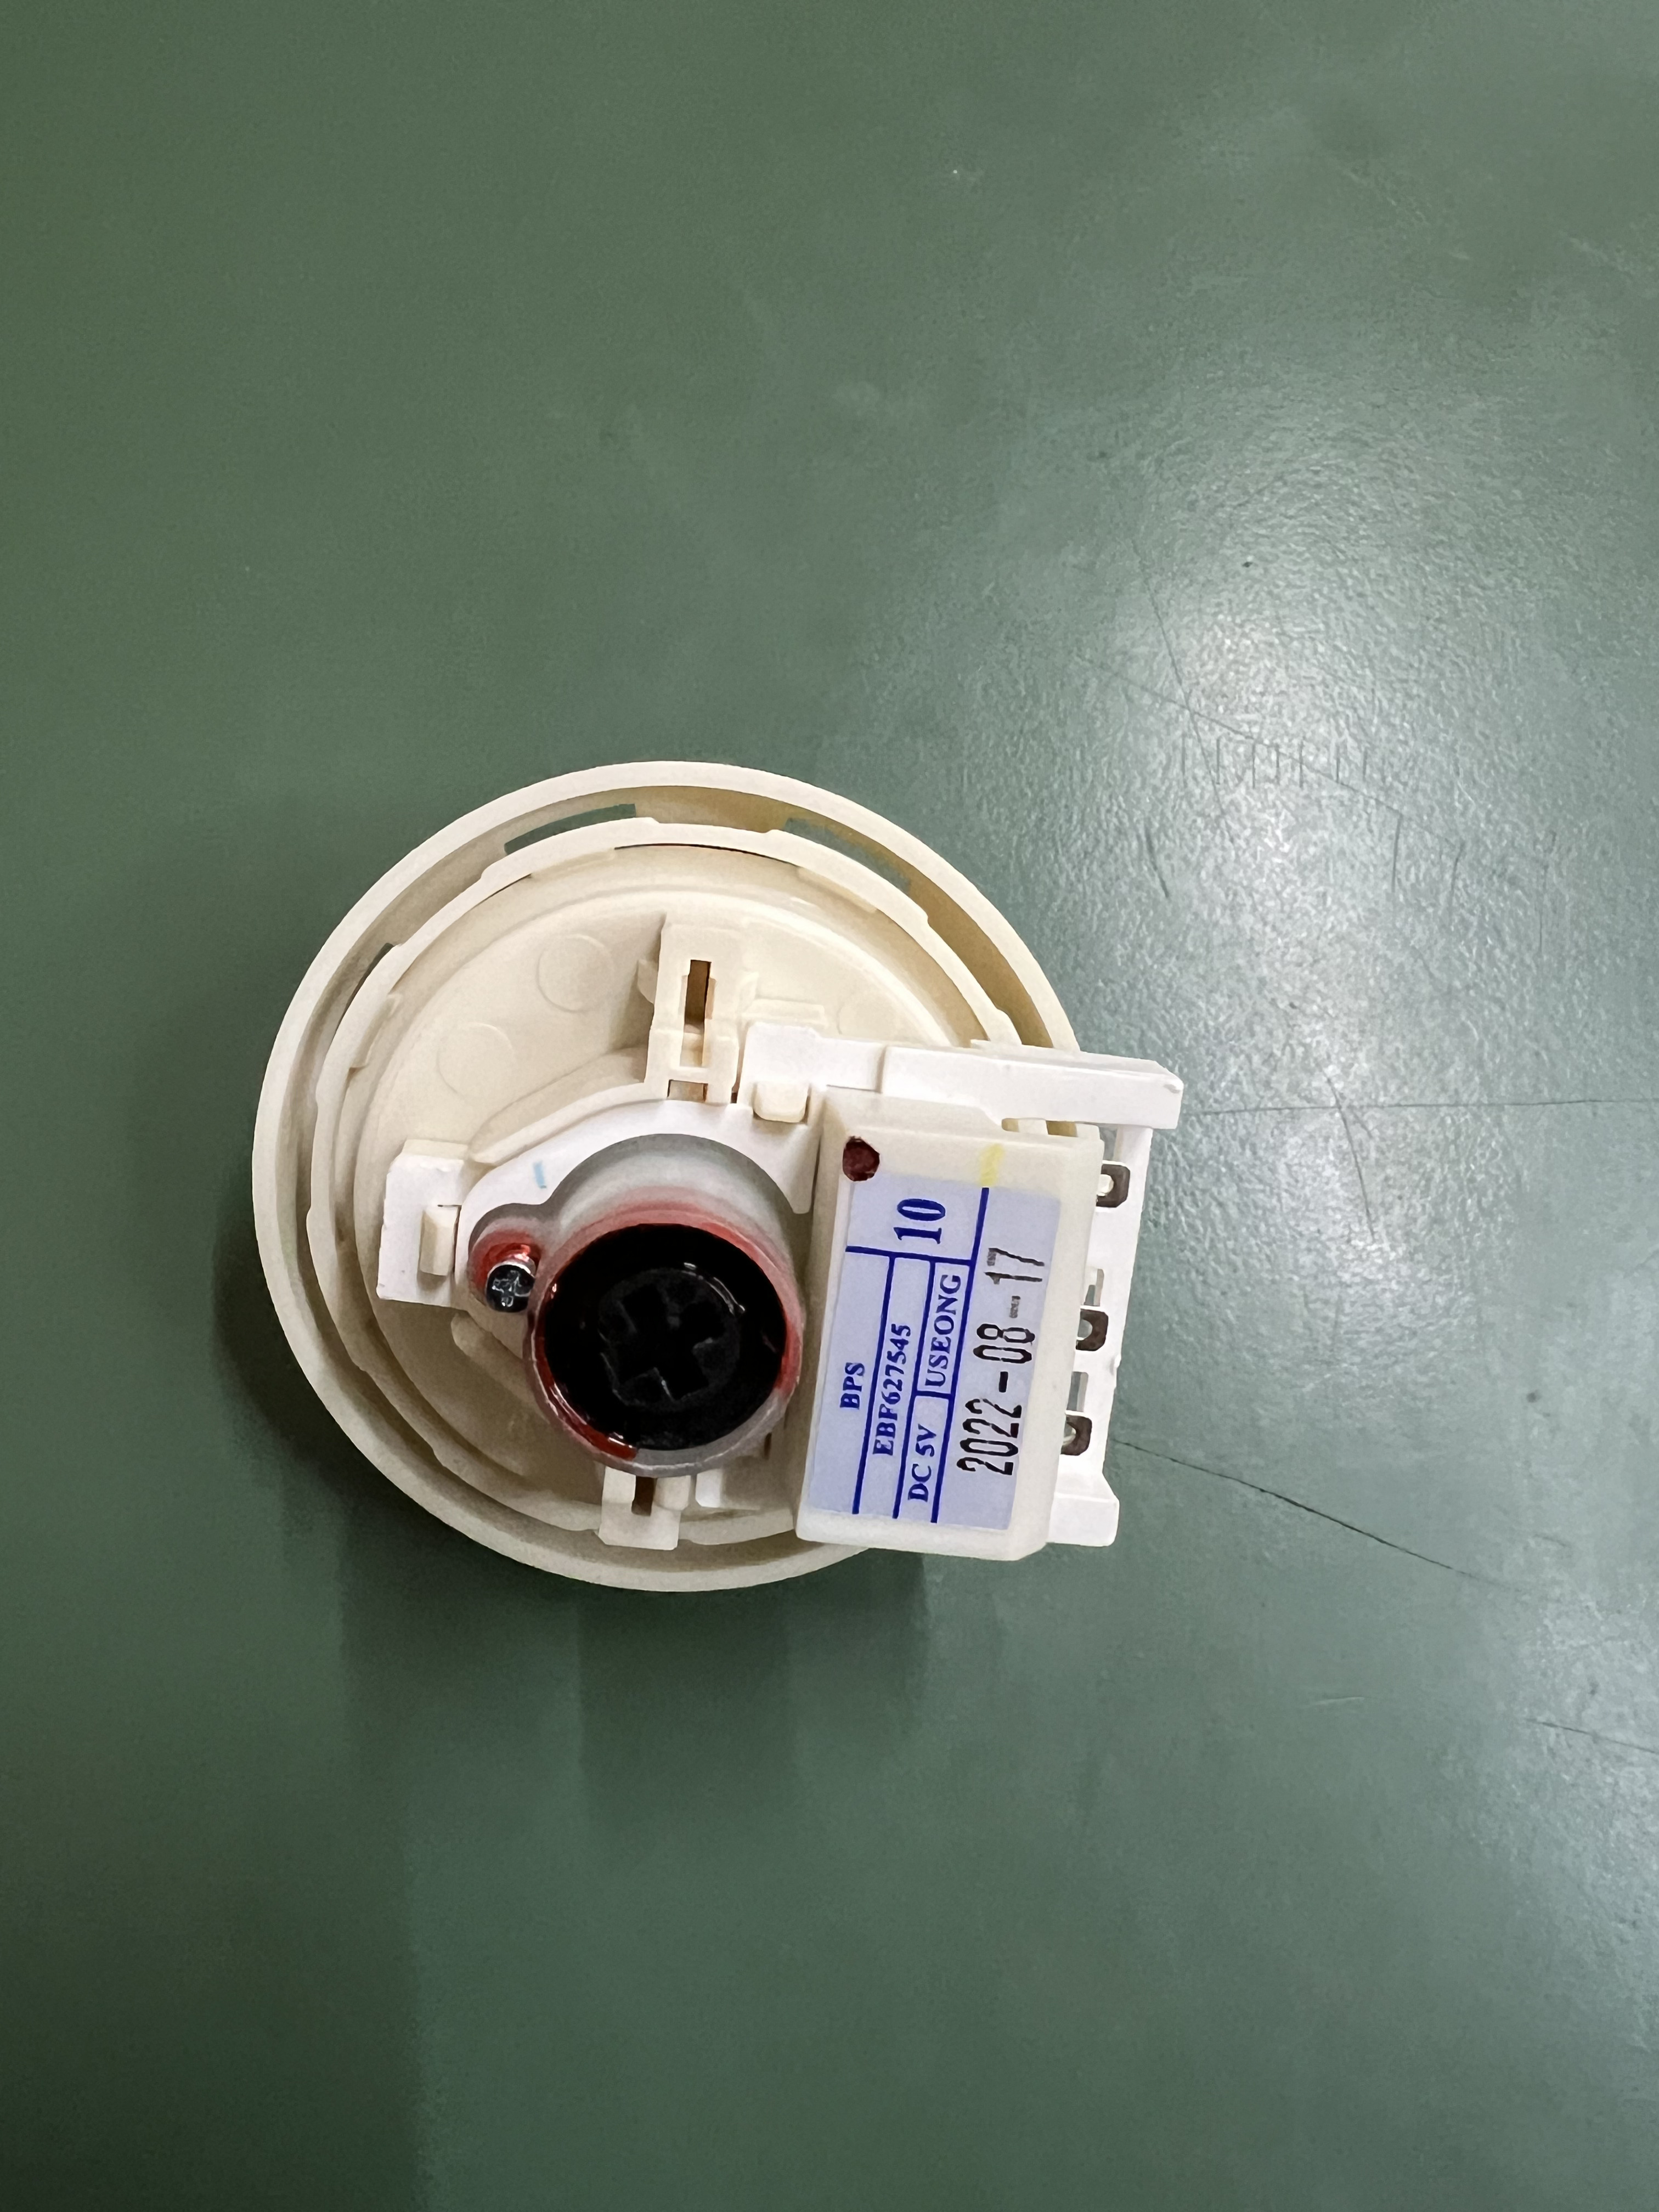pressure_sensor: (253, 761, 1201, 1630)
